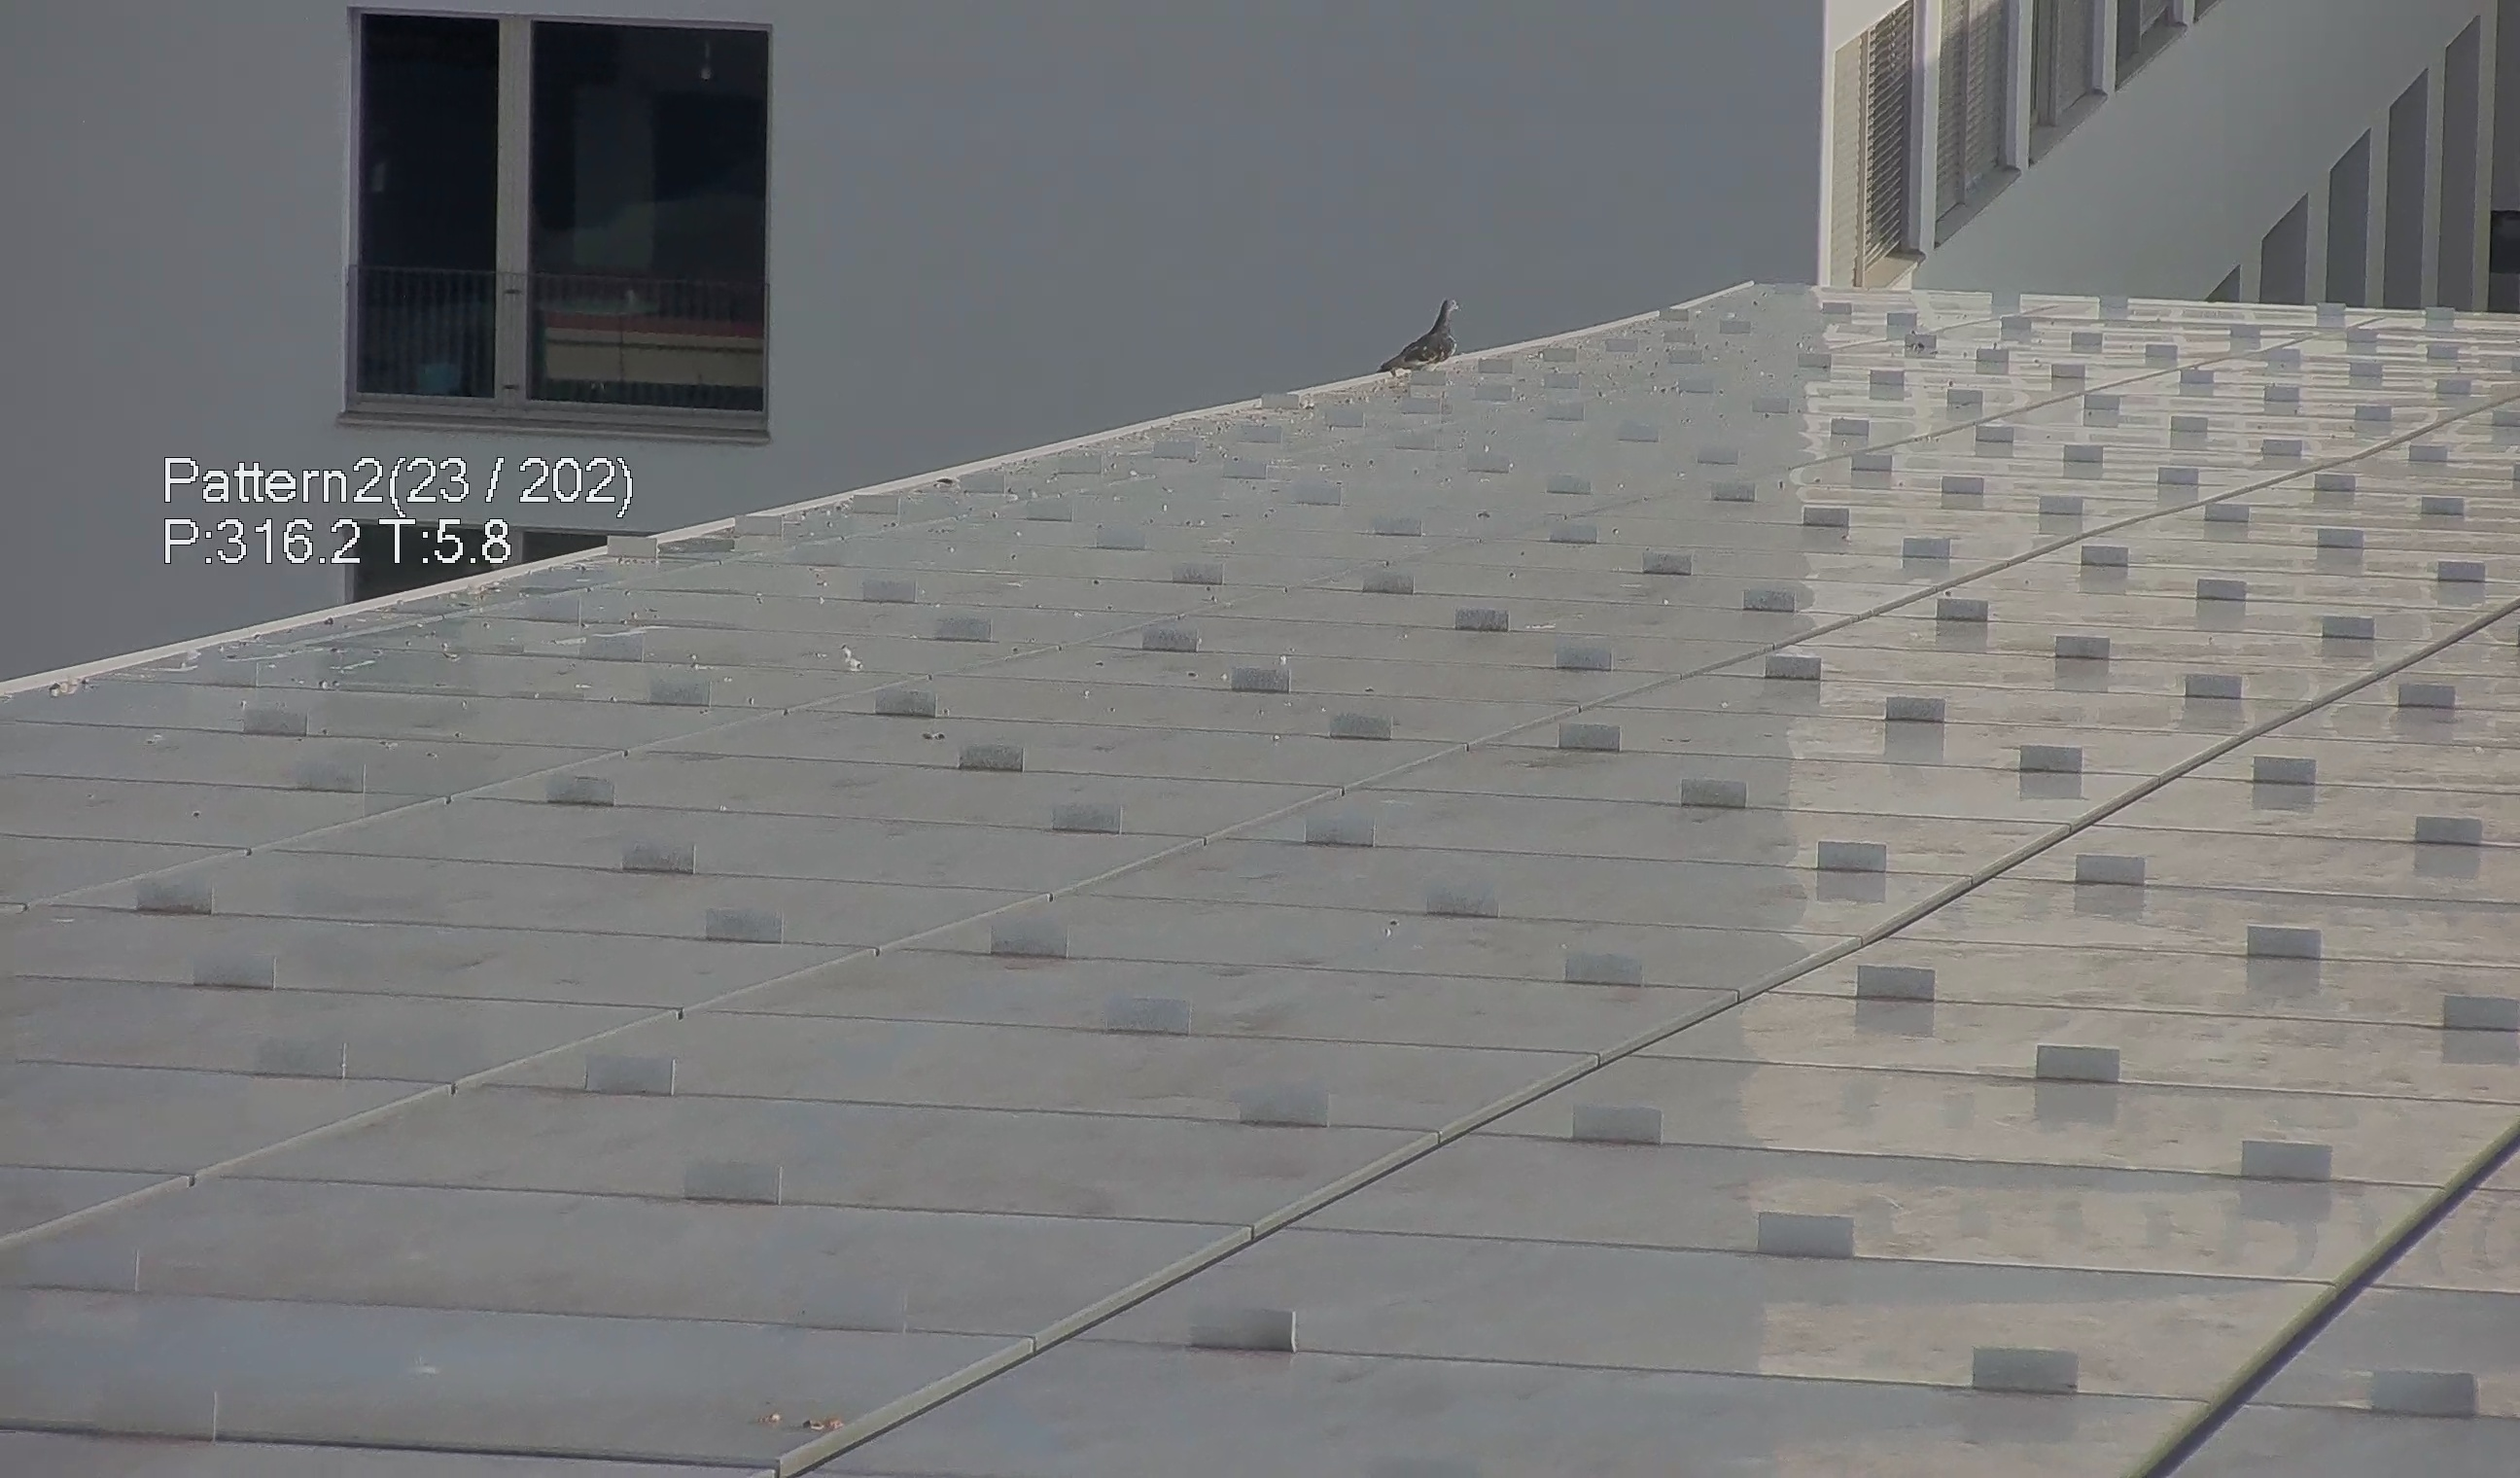Pigeon: (1365, 283, 1463, 384)
